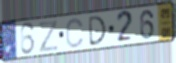2: (115, 9, 136, 46)
6: (19, 22, 36, 57), (139, 9, 156, 41)
C: (65, 17, 85, 50)
D: (87, 15, 107, 48)
Z: (38, 19, 58, 54)
